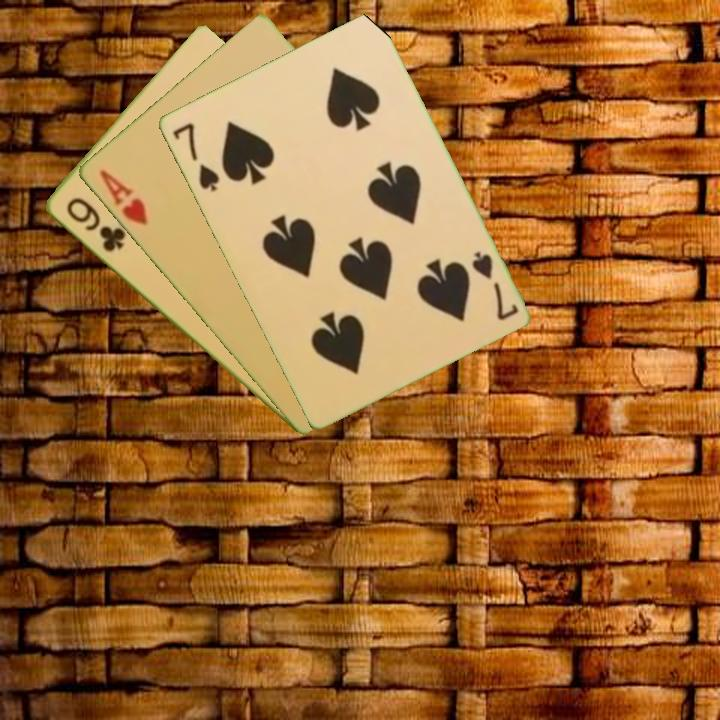7s: (467, 247, 521, 324), (168, 119, 222, 195)
9c: (62, 193, 127, 255)
Ah: (95, 166, 150, 229)
